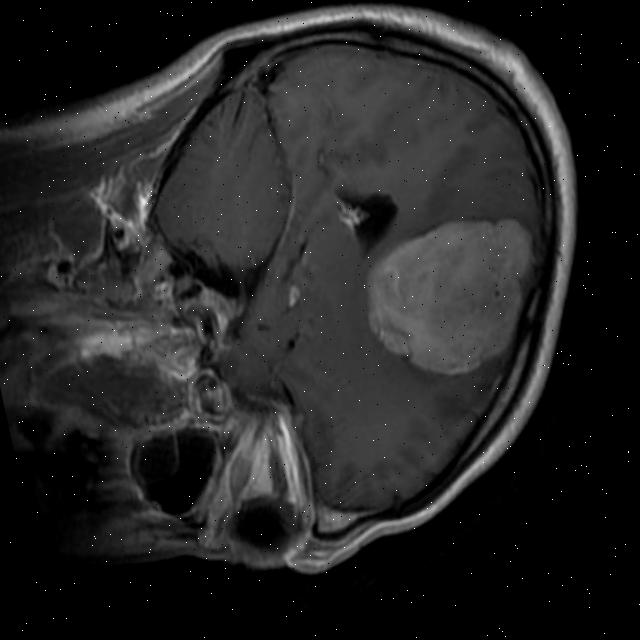Meningioma: (348, 196, 558, 400)
